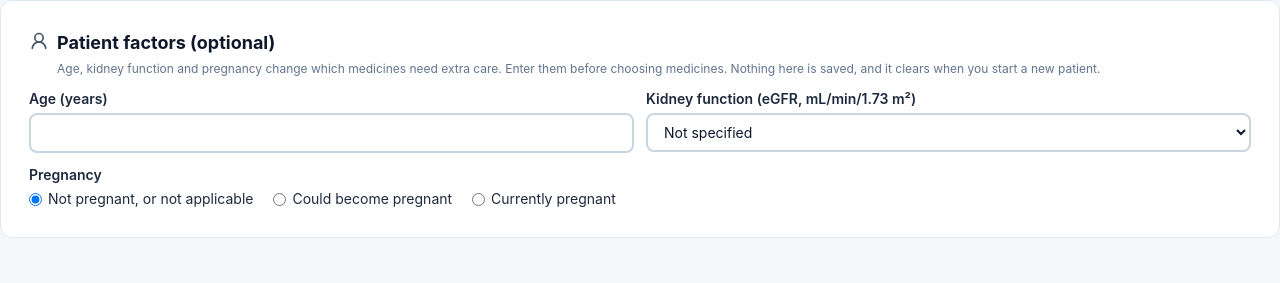
Test: patient factors › says nothing here is a clearance when no rule matched
Step 1. Click the radio button labelled "Currently pregnant" → (479, 199), box [472, 192, 485, 206]
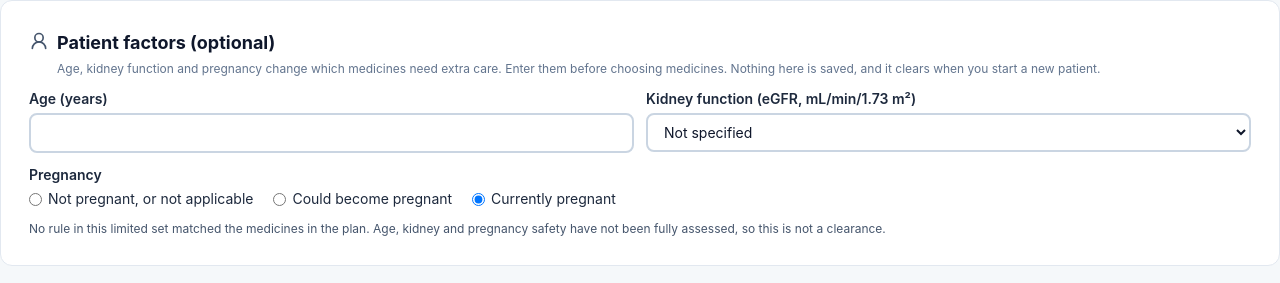
Expected: the text "not a clearance" is shown, [29, 221, 886, 236]
